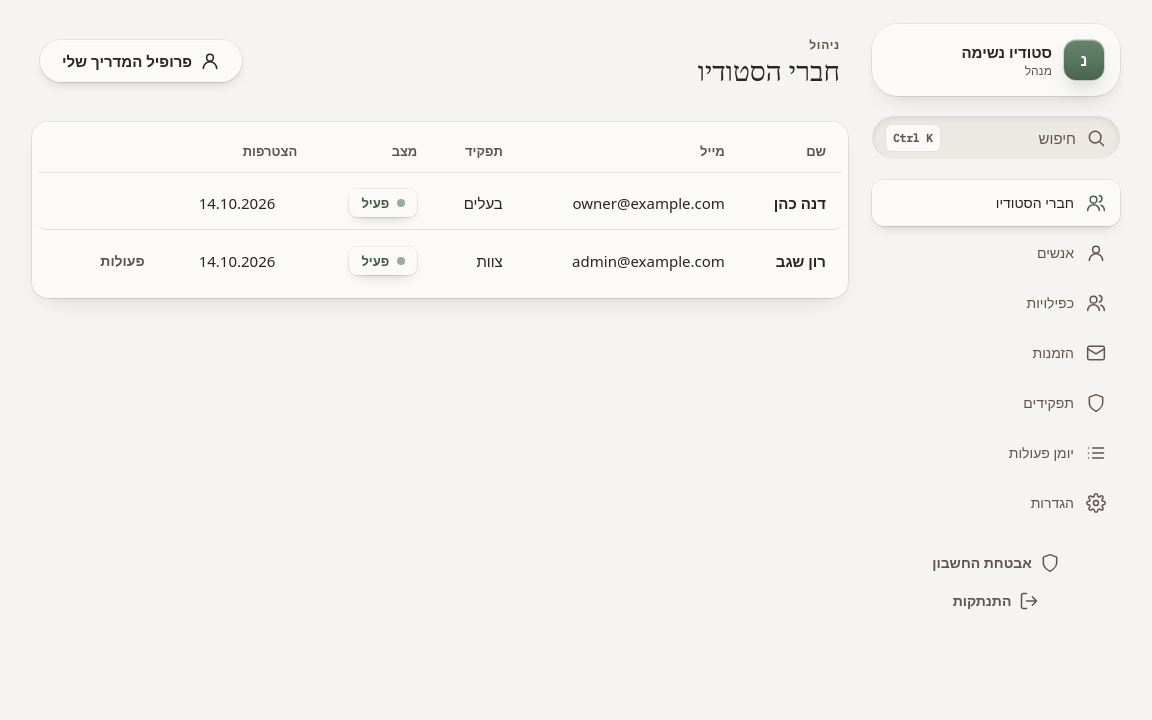
Scenario: member actions › reads the roles from `roles`, not the deprecated `role` field
The width and height of the screenshot is (1152, 720).
Expected: the text "צוות" is shown, top-left (433, 232), bottom-right (519, 290)
Click the button "פעולות".
click(122, 261)  # box top-left (78, 244), bottom-right (167, 278)
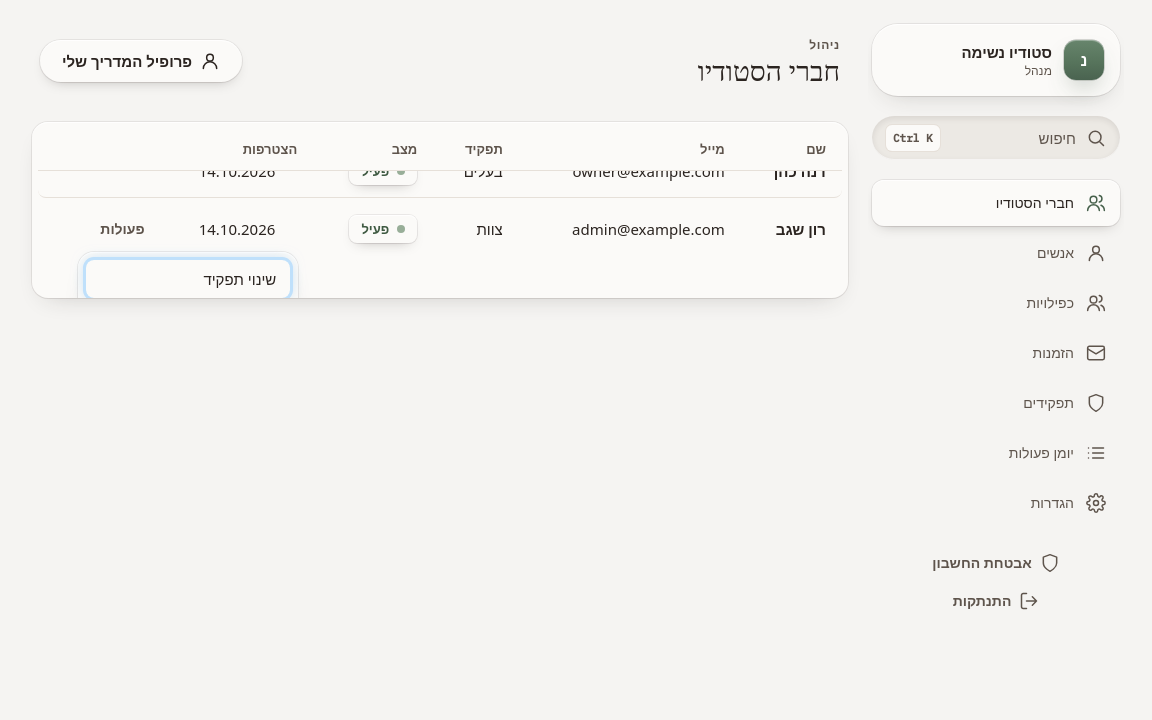
Expected: the menu item "שינוי תפקיד" is shown, top-left (86, 260), bottom-right (290, 298)
